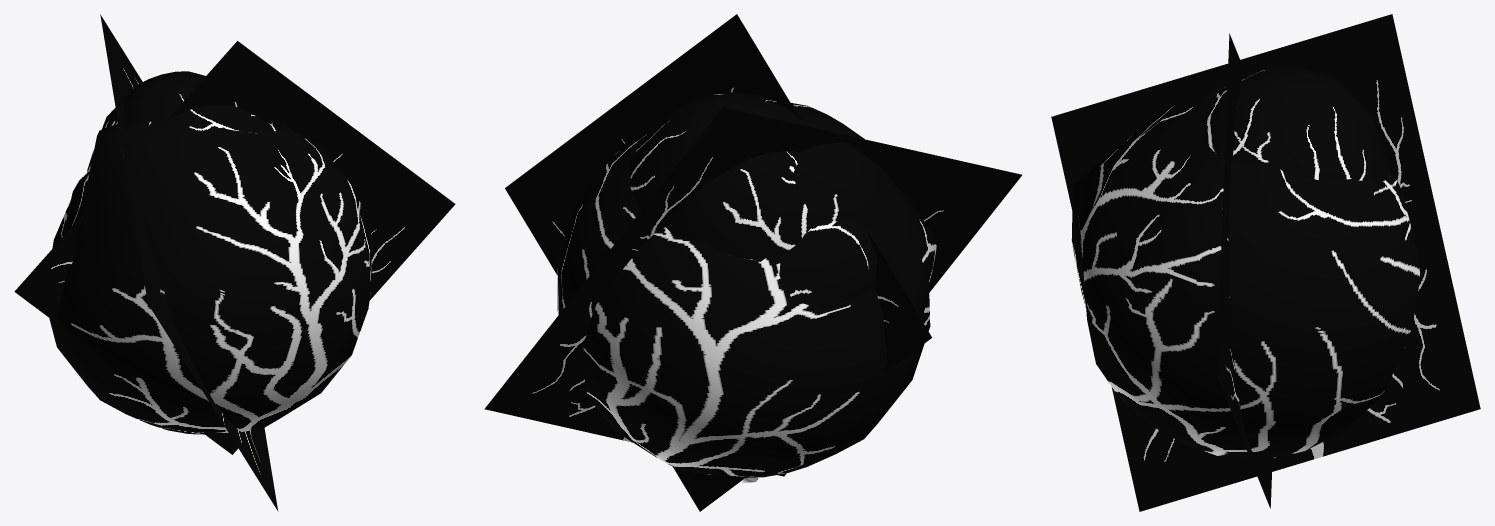
Rendered from SM_Tumbleweed01.fbx.
3 views of the same model, side by side, from view 1: azimuth 30°, elevation 25°; view 2: azimuth 150°, elevation 25°; view 3: azimuth 270°, elevation 25° (orthographic). The views are drawn at different scales.
Parts seen in each view (by area): view 1: SM_Tumbleweed01; view 2: SM_Tumbleweed01; view 3: SM_Tumbleweed01.
Boxes of the visible parts, left/top/right/bottom form: SM_Tumbleweed01: left=14, top=14, right=455, bottom=511; SM_Tumbleweed01: left=484, top=14, right=1022, bottom=511; SM_Tumbleweed01: left=1051, top=14, right=1480, bottom=511.
Size of the model in its own units: 182 by 187 by 152.
